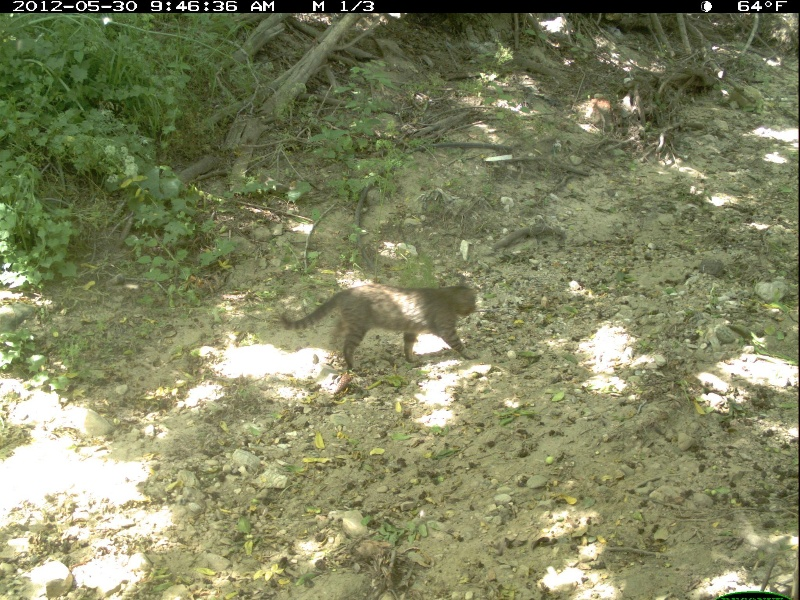cat: (281, 278, 481, 373)
